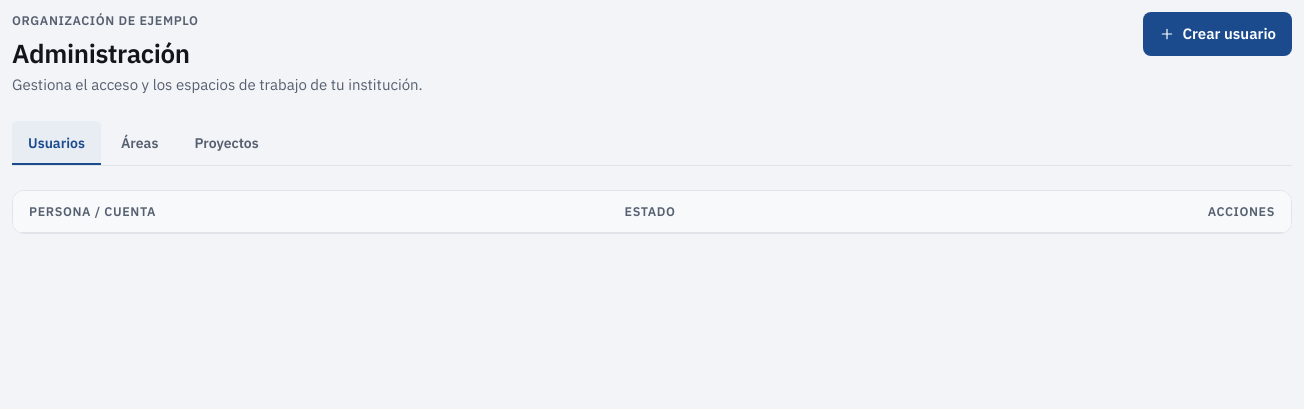
Scenario: Proyectos lista cada proyecto con su identificador y accesos directos a abrirlo y a sus miembros
Click the button "Proyectos" at (227, 143), box [178,121,275,165]
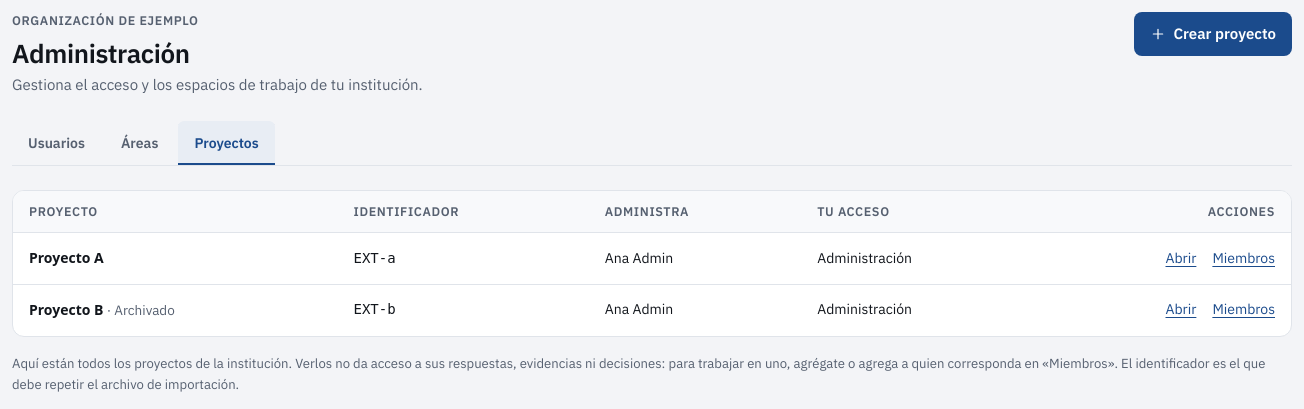
Expected: the table named "Proyectos" is shown, [13,191,1291,336]
Expected: the text "EXT-a" is shown, [354,250,396,266]
Expected: the text "· Archivado" is shown, [104,301,175,319]
